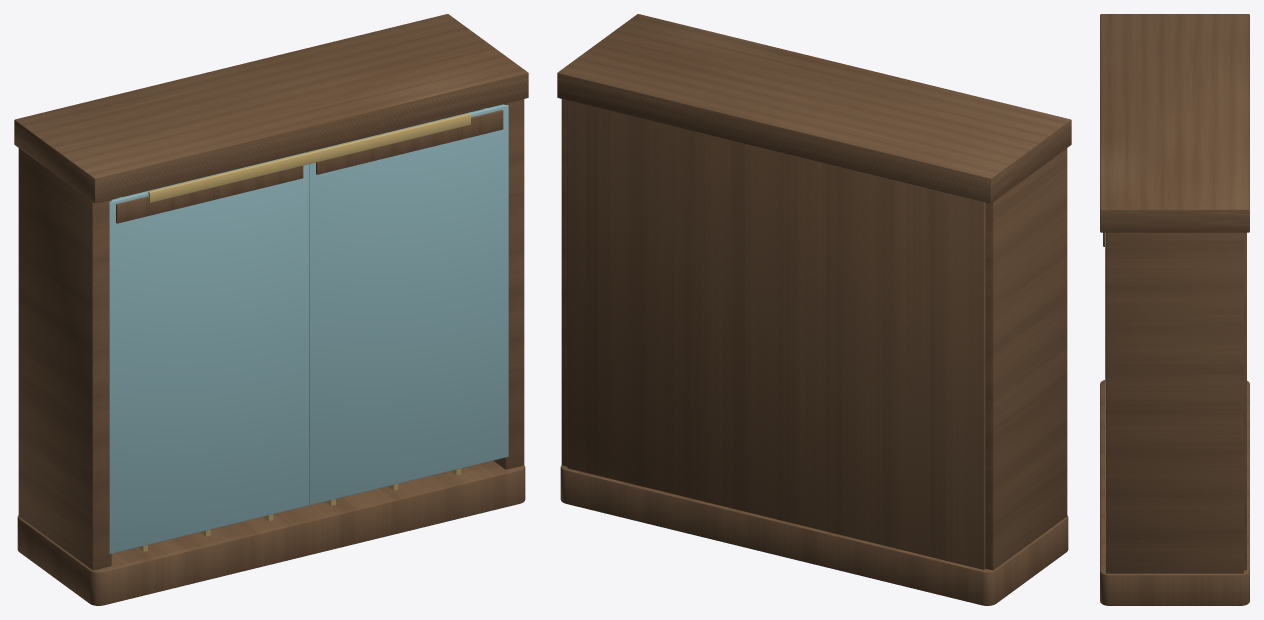
The model's file is rental_club_storage_country_club.glb.
3 renders of one model, left to right at view 1: azimuth 30°, elevation 25°; view 2: azimuth 150°, elevation 25°; view 3: azimuth 270°, elevation 25°, orthographic. The views are drawn at different scales.
Parts seen in each view (by area): view 1: ClubStorage_GlassDoor_L, ClubStorage_GlassDoor_R, ClubStorage_Top, ClubStorage_Side_-1, ClubStorage_Plinth, ClubStorage_Side_1, ClubStorage_BrassRail, ClubStorage_DoorFrame_L, ClubStorage_DoorFrame_R; view 2: ClubStorage_Back, ClubStorage_Top, ClubStorage_Side_-1, ClubStorage_Plinth, ClubStorage_Side_1; view 3: ClubStorage_Side_1, ClubStorage_Top, ClubStorage_Plinth, ClubStorage_Back, ClubStorage_GlassDoor_R.
Boxes of the visible parts, box(x1,y1,x2,y2) form: ClubStorage_GlassDoor_L: box(109, 152, 308, 553); ClubStorage_GlassDoor_R: box(307, 104, 508, 504); ClubStorage_Top: box(14, 14, 528, 203); ClubStorage_Side_-1: box(18, 148, 111, 570); ClubStorage_Plinth: box(17, 460, 525, 605); ClubStorage_Side_1: box(473, 99, 524, 469); ClubStorage_BrassRail: box(148, 113, 470, 202); ClubStorage_DoorFrame_L: box(116, 166, 303, 223); ClubStorage_DoorFrame_R: box(316, 110, 503, 174); ClubStorage_Back: box(567, 100, 985, 569); ClubStorage_Top: box(557, 14, 1071, 203); ClubStorage_Side_-1: box(985, 148, 1067, 570); ClubStorage_Plinth: box(560, 465, 1068, 605); ClubStorage_Side_1: box(561, 99, 567, 466); ClubStorage_Side_1: box(1106, 232, 1243, 573); ClubStorage_Top: box(1100, 14, 1249, 232); ClubStorage_Plinth: box(1100, 380, 1249, 605); ClubStorage_Back: box(1244, 232, 1246, 570); ClubStorage_GlassDoor_R: box(1105, 232, 1105, 554).
Size of what is drawn, in the model's own units: 2.35 by 2.22 by 0.76.
8 materials, 1 textured.
